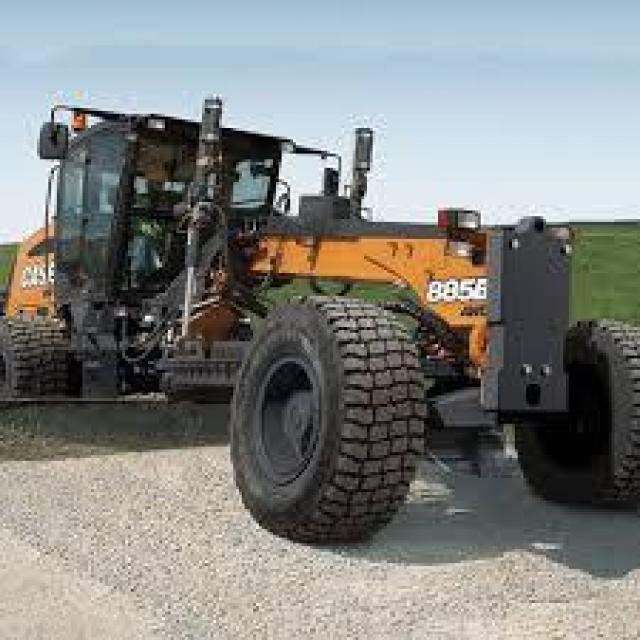Grader: (9, 108, 637, 583)
